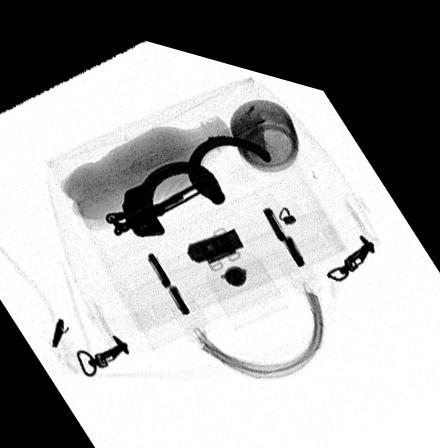HandCuffs: (98, 122, 273, 231)
